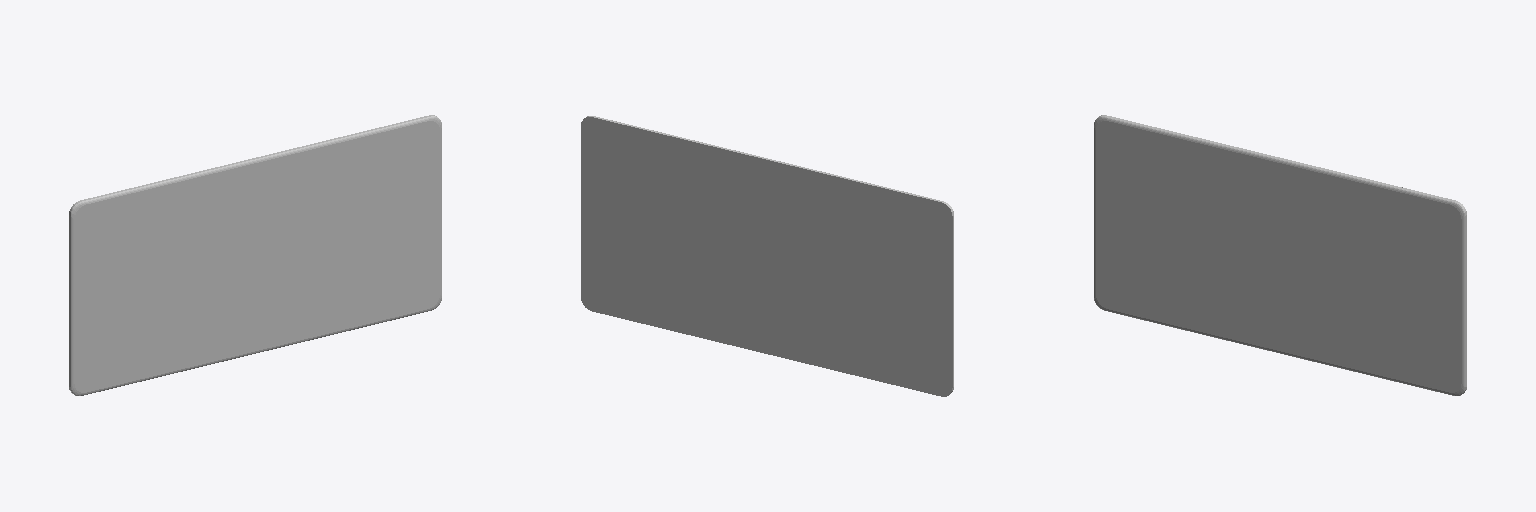
File: UI_button3.obj
The picture shows the model from 3 angles: view 1: azimuth 30°, elevation 25°; view 2: azimuth 150°, elevation 25°; view 3: azimuth 330°, elevation 25°; orthographic projection.
Parts seen in each view (by area): view 1: UI_button3; view 2: UI_button3; view 3: UI_button3.
Part boxes in pixels (x1,y1,x2,y2): UI_button3: (69,115,441,395); UI_button3: (581,116,953,396); UI_button3: (1094,115,1466,395).
Size of the model in its own units: 0.3188 by 0.1593 by 0.0037.